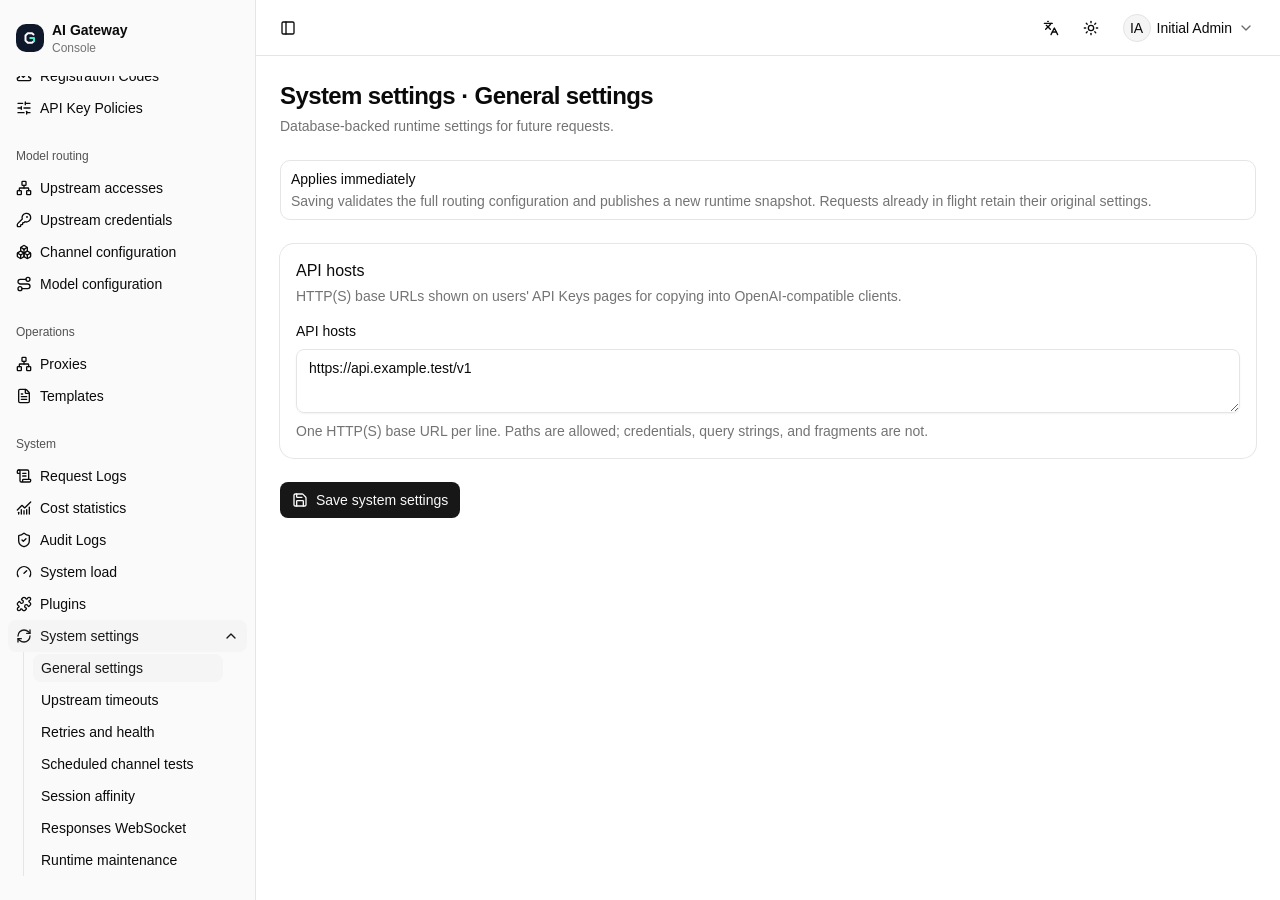
Test: SystemPage › redirects the old settings URL and opens only the selected category
(page scrolled)
Expected: the heading "System settings · General settings" is shown, [280,80,653,112]
Expected: the field labelled "Connect timeout (seconds)" is not shown
Click the link "Upstream timeouts" at (100, 700), box [41,692,158,708]
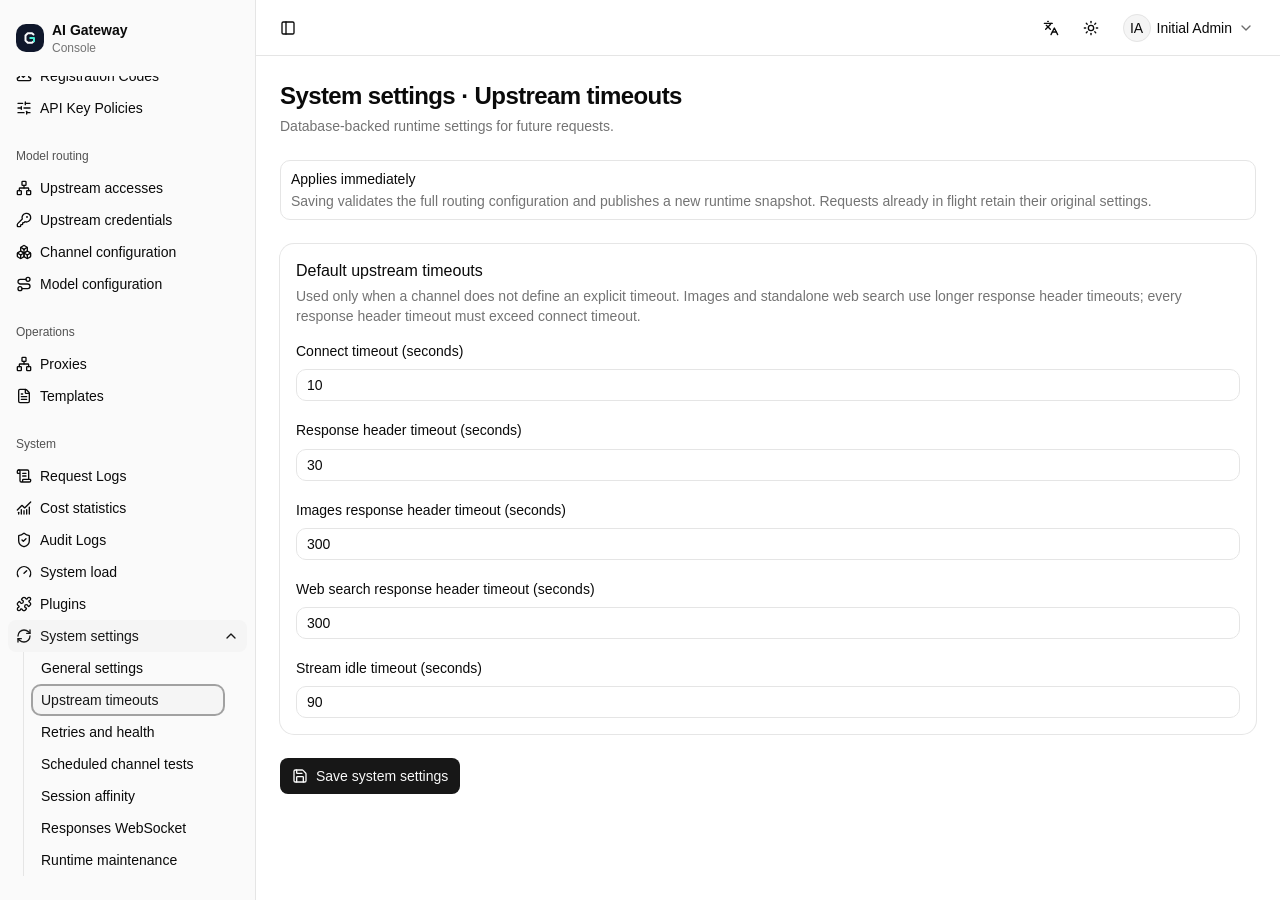
Replace the text in the number field labelled "Connect timeout (seconds)" with "12" at (768, 385), box [296,369,1240,401]
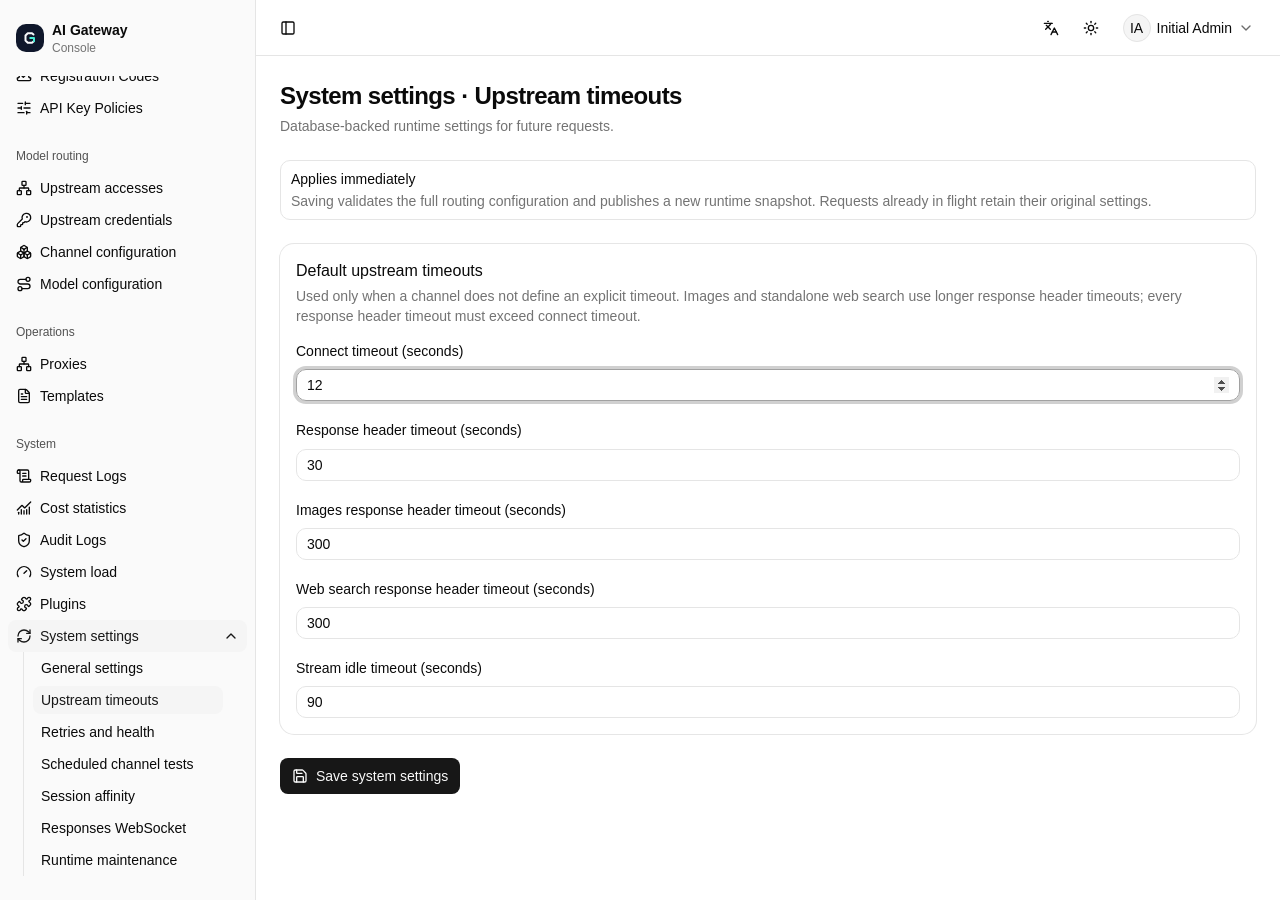
Click the link "General settings" at (92, 668), box [41,660,143,676]
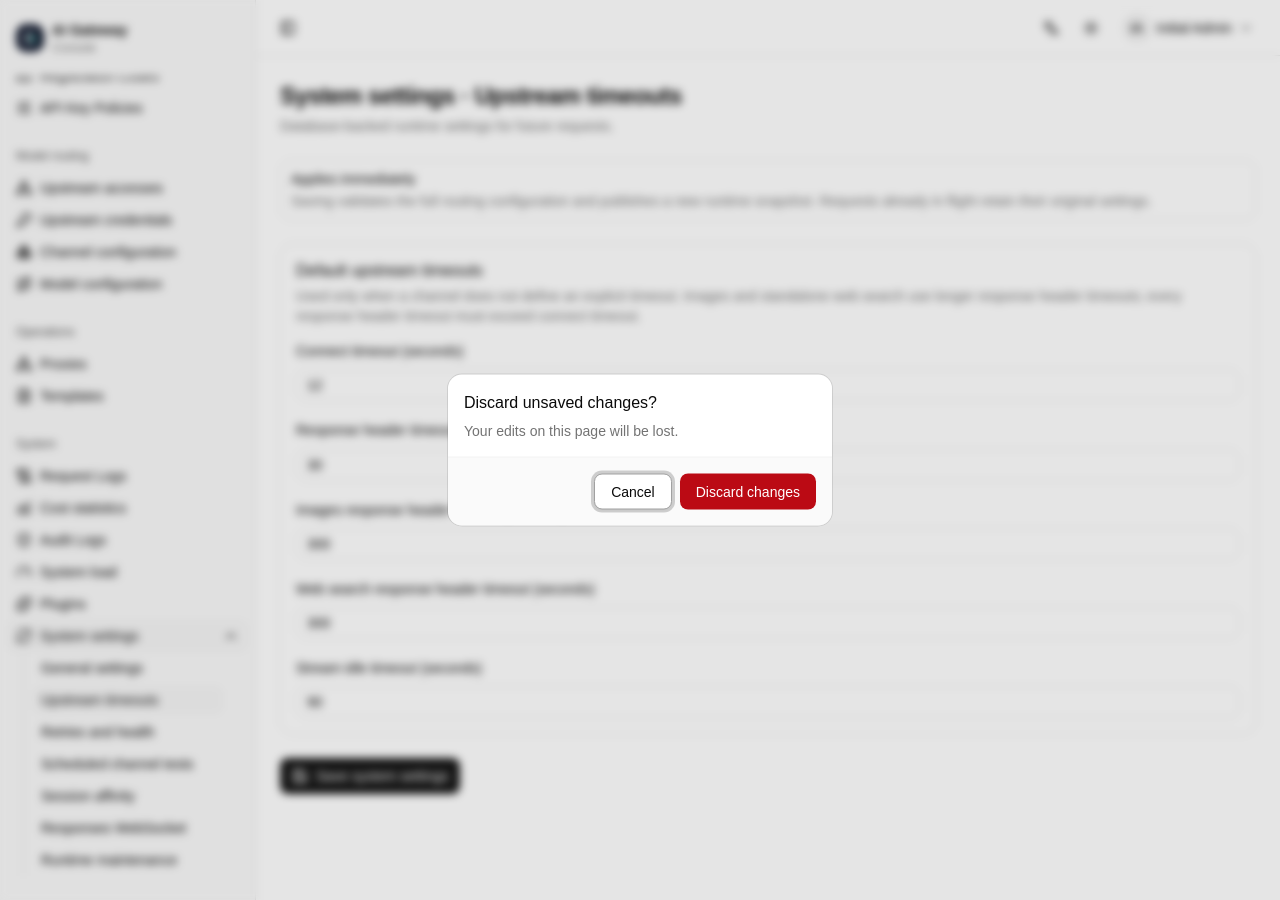
Expected: the dialog "Discard unsaved changes?" is shown, [448,374,832,526]
Click the button "Discard changes" at (748, 492), box [680,474,816,510]
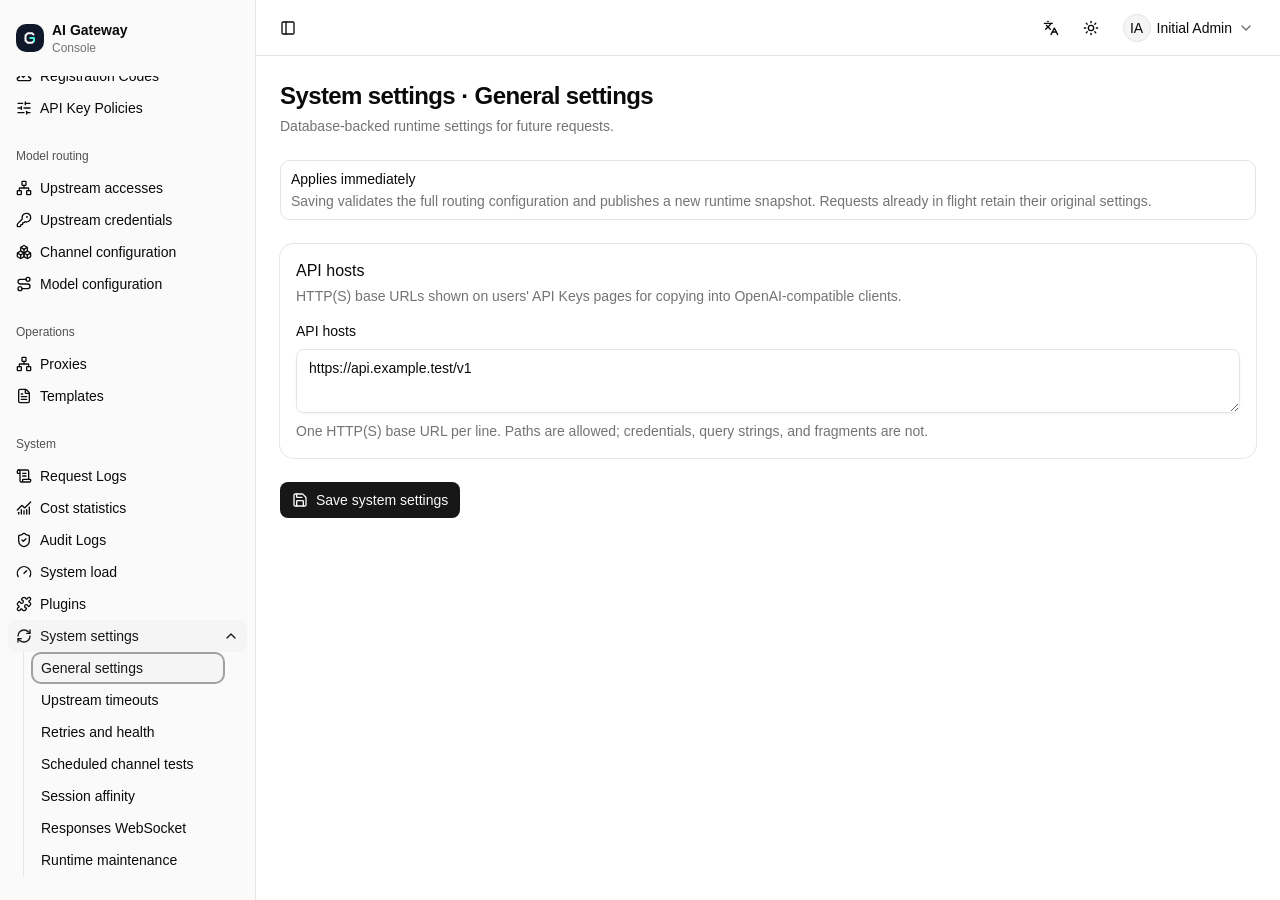
Expected: the heading "System settings · General settings" is shown, [280,80,653,112]
Click the link "Upstream timeouts" at (100, 700), box [41,692,158,708]
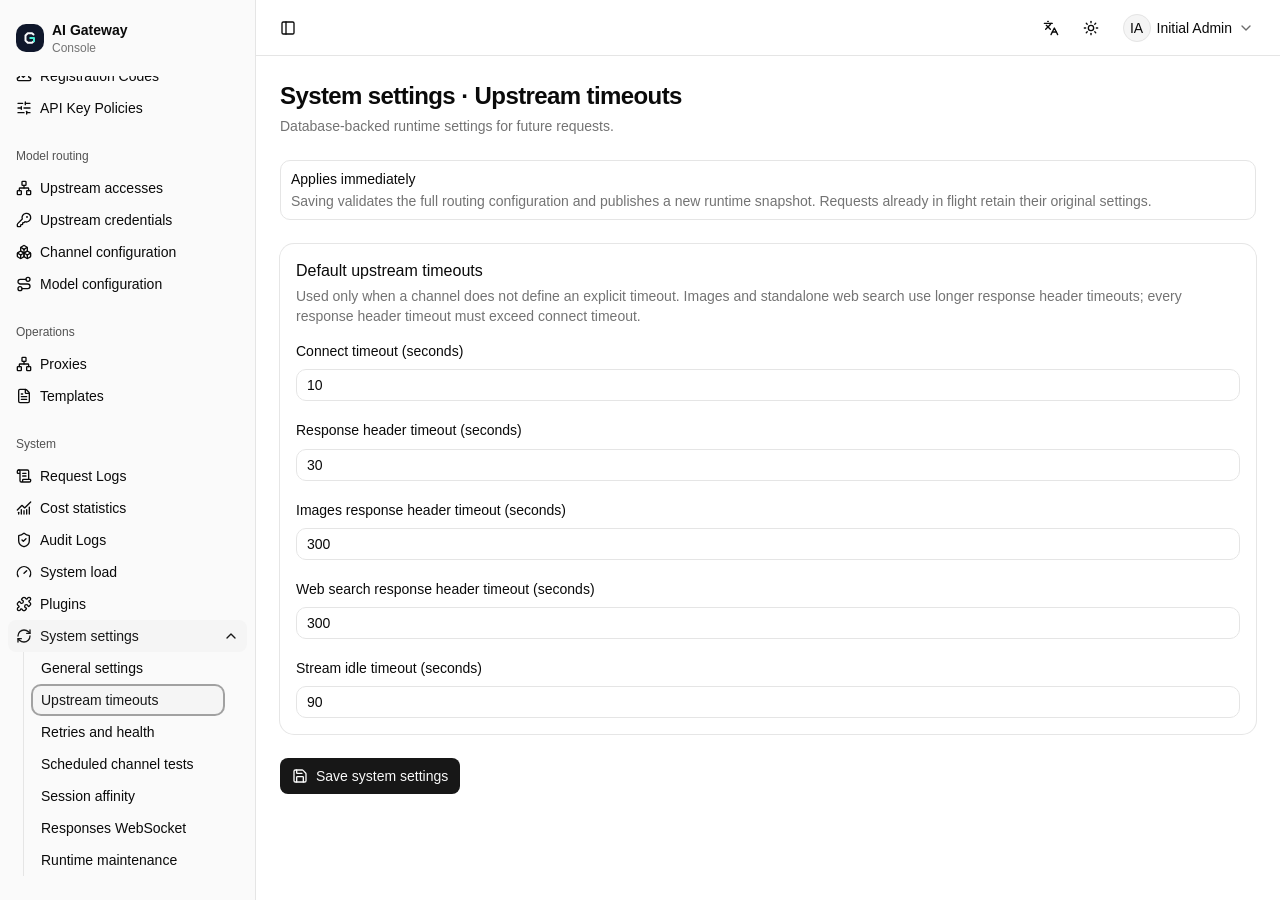
Expected: the number field labelled "Connect timeout (seconds)" holds "10", [296,369,1240,401]
